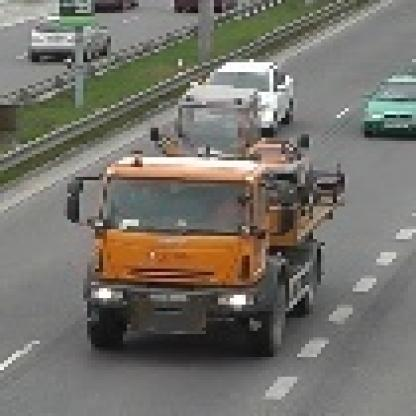truck: (64, 132, 346, 352)
